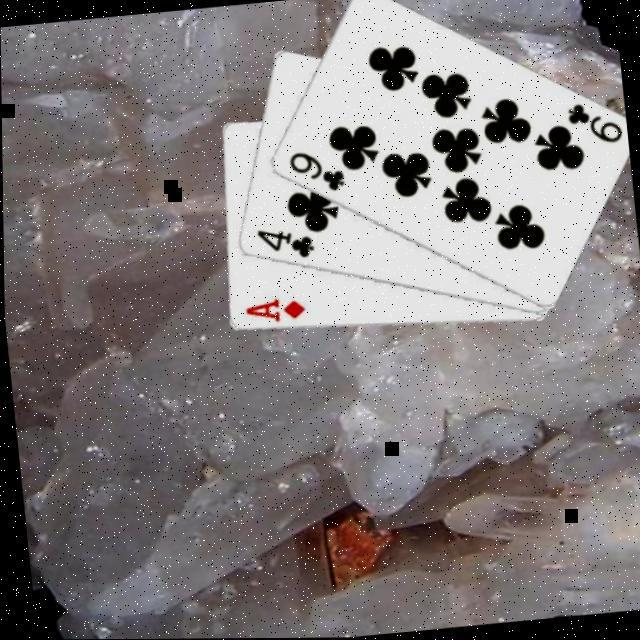4C: (249, 225, 315, 268)
9C: (281, 146, 346, 200), (559, 100, 624, 152)
AD: (238, 296, 304, 329)
